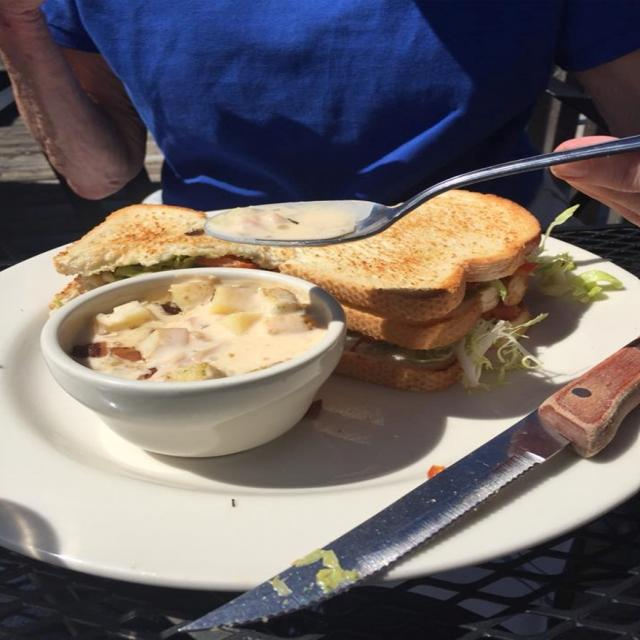Sandwich: (72, 178, 550, 396)
